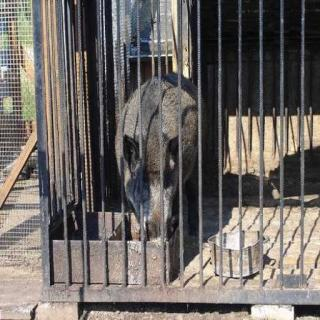Pig: (109, 57, 210, 243)
